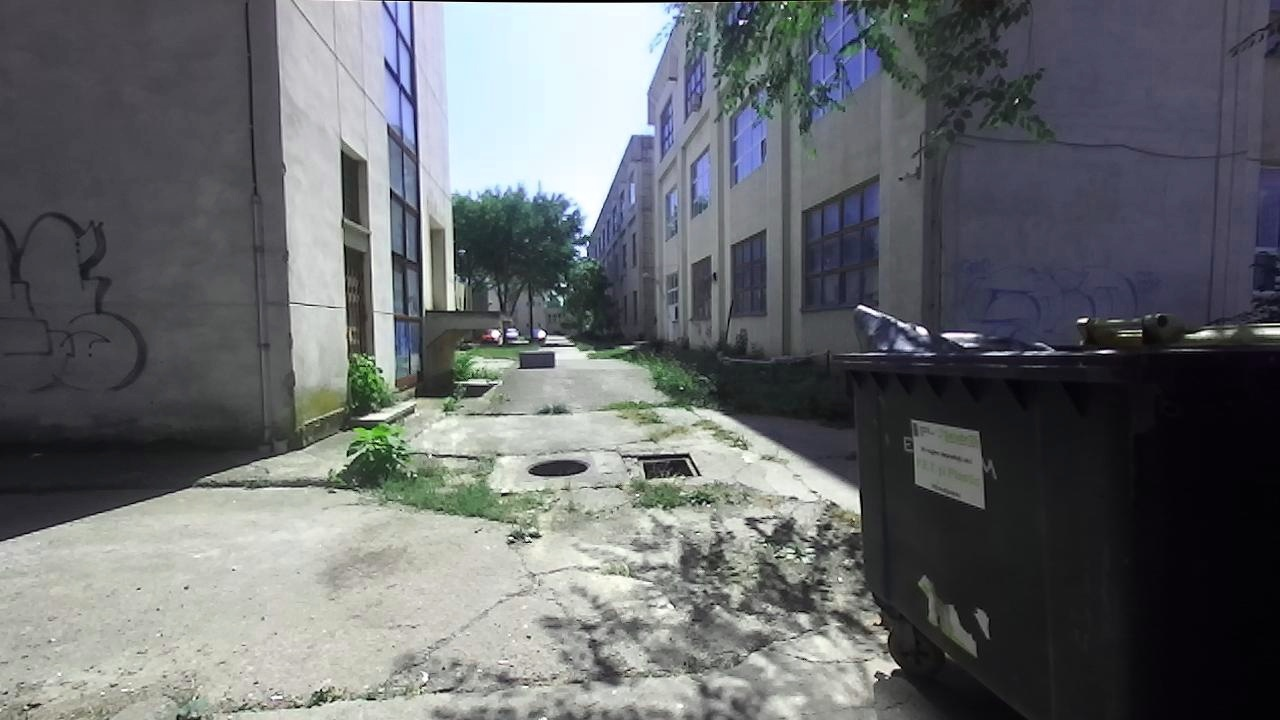drain: (633, 449, 704, 479), (522, 457, 596, 479)
